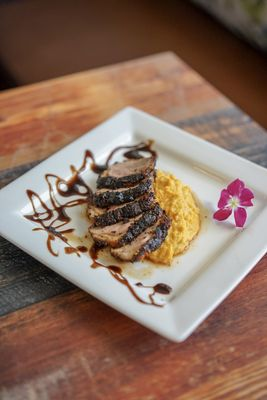curry: (0, 49, 267, 389)
